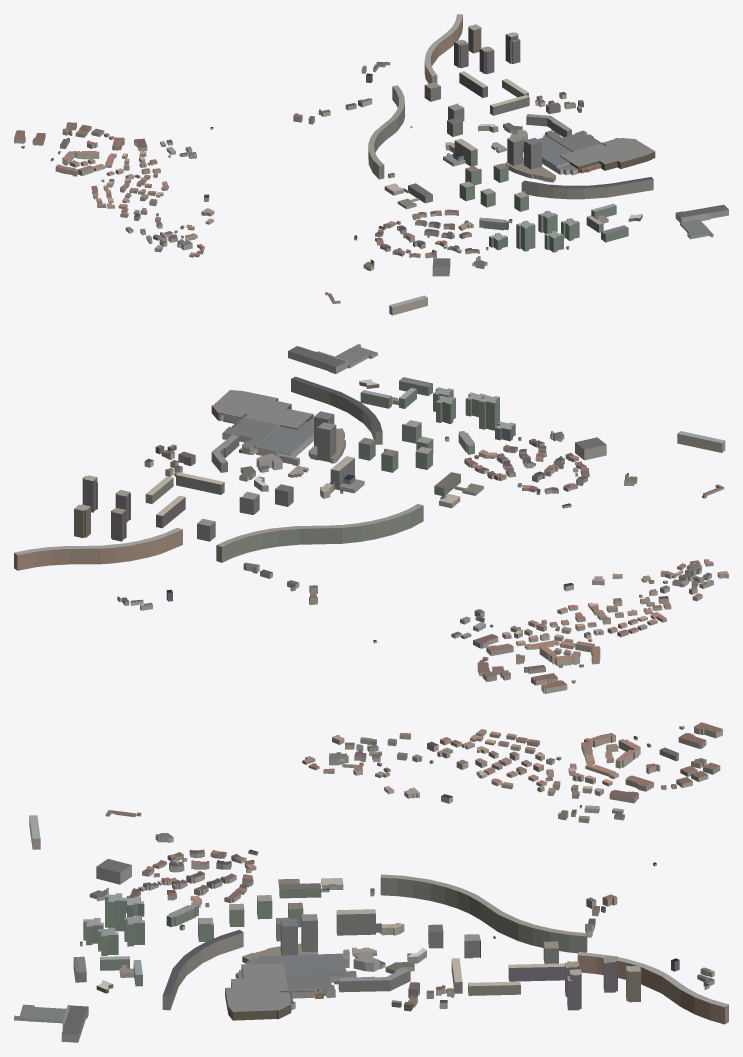
The picture shows the model from 3 angles, top to bottom: view 1: azimuth 30°, elevation 25°; view 2: azimuth 150°, elevation 25°; view 3: azimuth 270°, elevation 25°; orthographic projection. The views are drawn at different scales.
Visible parts, largest first — view 1: tuile; view 2: tuile; view 3: tuile.
Part boxes in pixels (<box>): tuile: <box>14,14,728,315</box>; tuile: <box>14,344,728,693</box>; tuile: <box>14,722,728,1042</box>.
Size of the model in its own units: 1039 by 110 by 1035.
